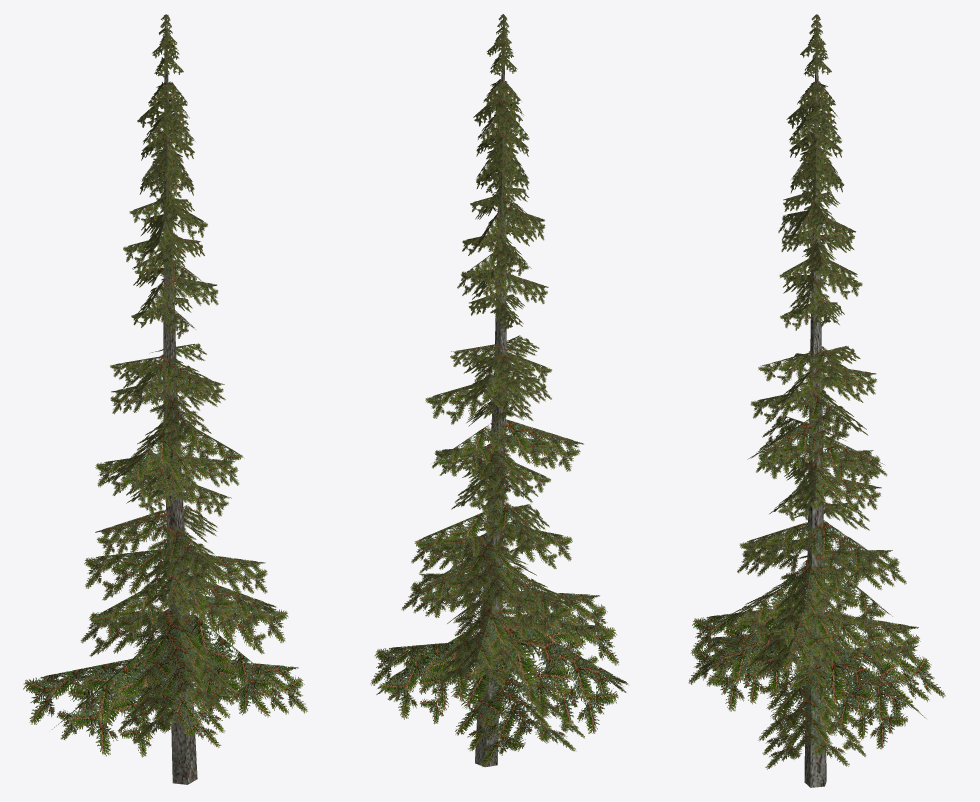
File: abeto_d.glb
3 views of the same model, side by side, from view 1: azimuth 30°, elevation 25°; view 2: azimuth 150°, elevation 25°; view 3: azimuth 270°, elevation 25° (orthographic). The views are drawn at different scales.
Visible parts, largest first — view 1: Modelo; view 2: Modelo; view 3: Modelo.
Boxes of the visible parts, left/top/right/bottom form: Modelo: left=23, top=14, right=307, bottom=784; Modelo: left=370, top=14, right=628, bottom=767; Modelo: left=688, top=14, right=945, bottom=787.
Bounding box in the file's own units: 2.76 × 7.74 × 2.72.
1 material, 1 textured.
